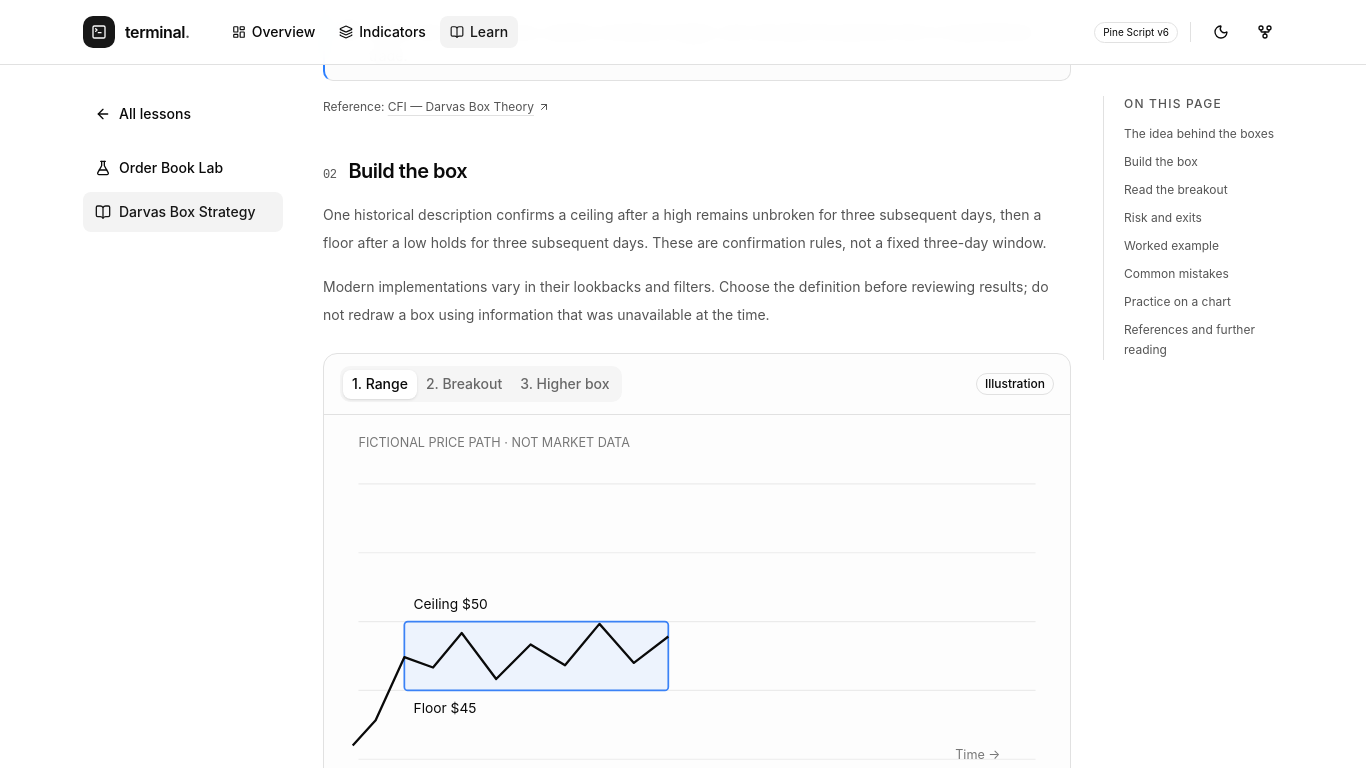
lets readers reveal diagram stages and the practice explanation
(page scrolled)
Expected: the text "Initial stop $44.80" is not shown
Click the tab "2. Breakout" at (464,384), box [417, 370, 511, 398]
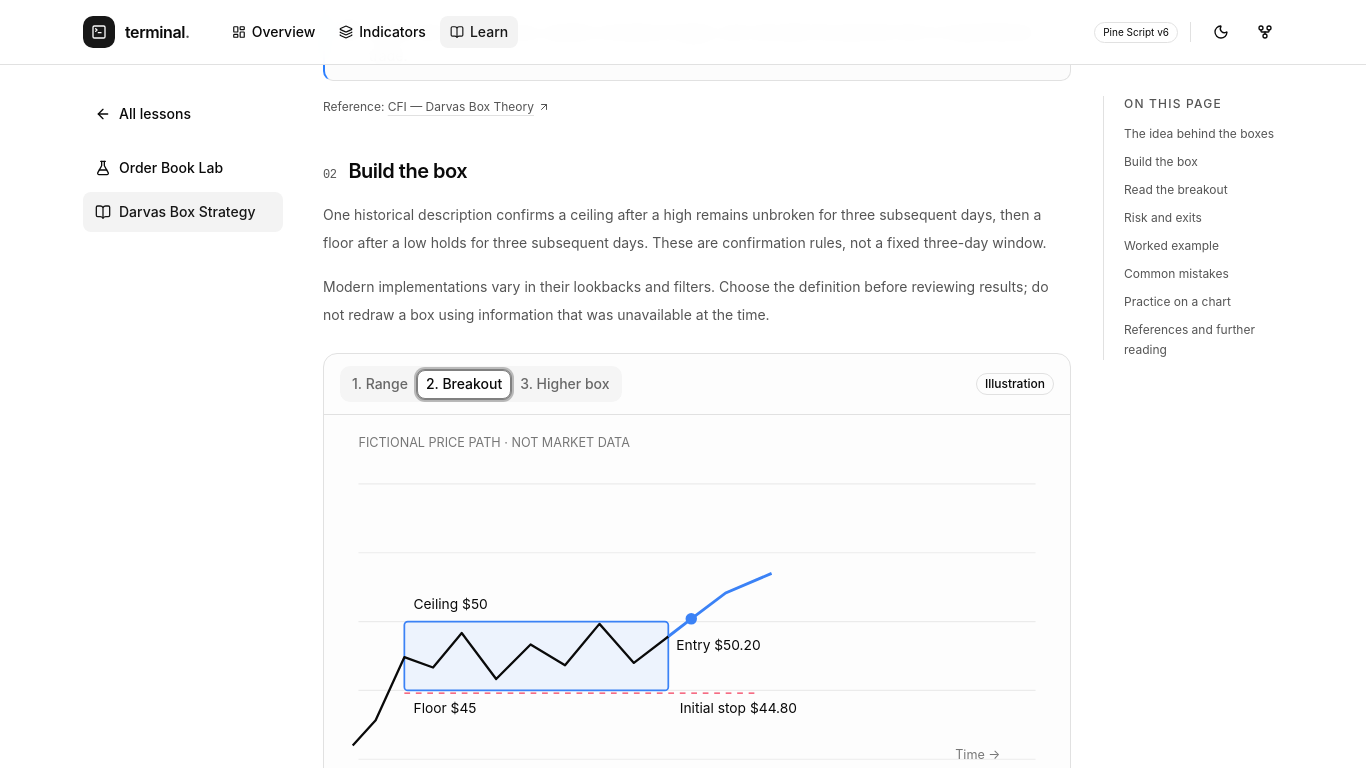
Expected: the text "Initial stop $44.80" is shown, [680, 700, 797, 716]
Click the tab "3. Higher box" at (565,384), box [511, 370, 618, 398]
(page scrolled)
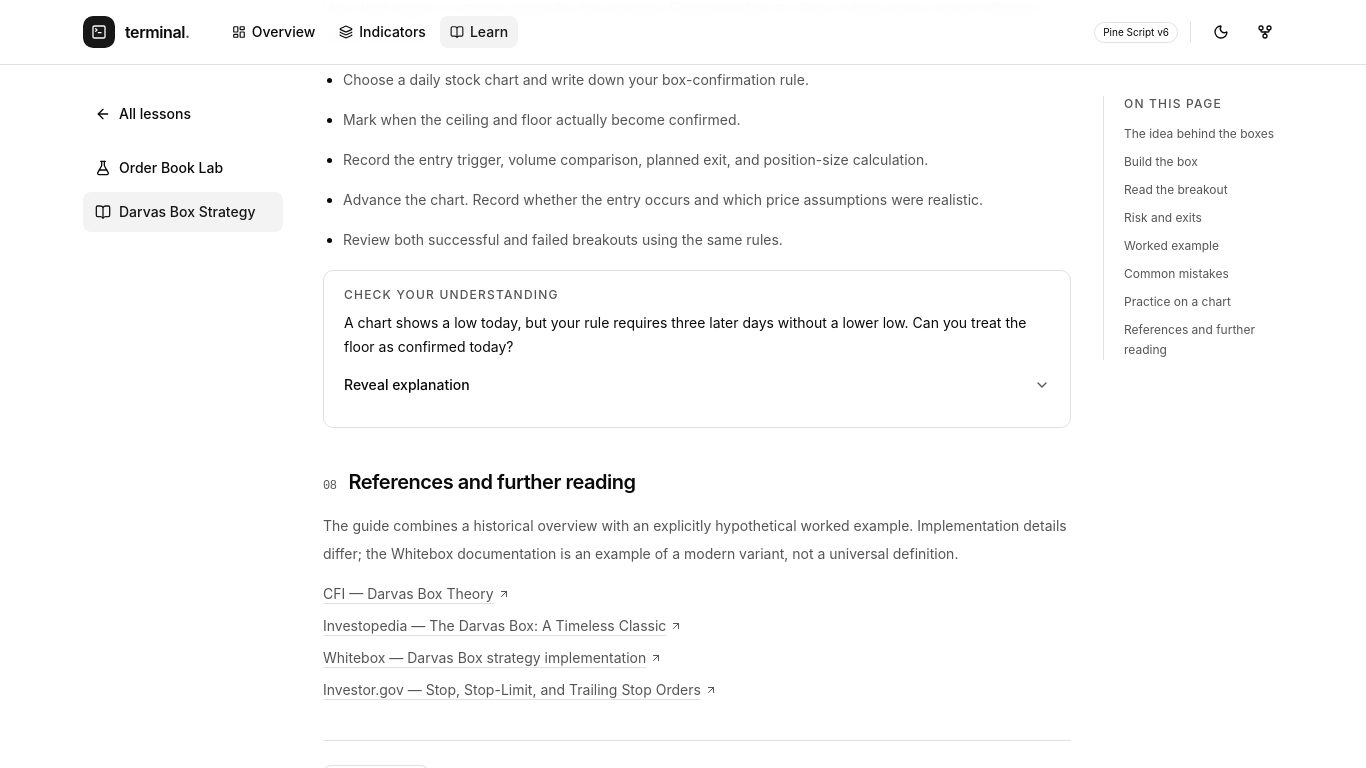
Click the button "Reveal explanation" at (407,384), box [344, 359, 1050, 411]
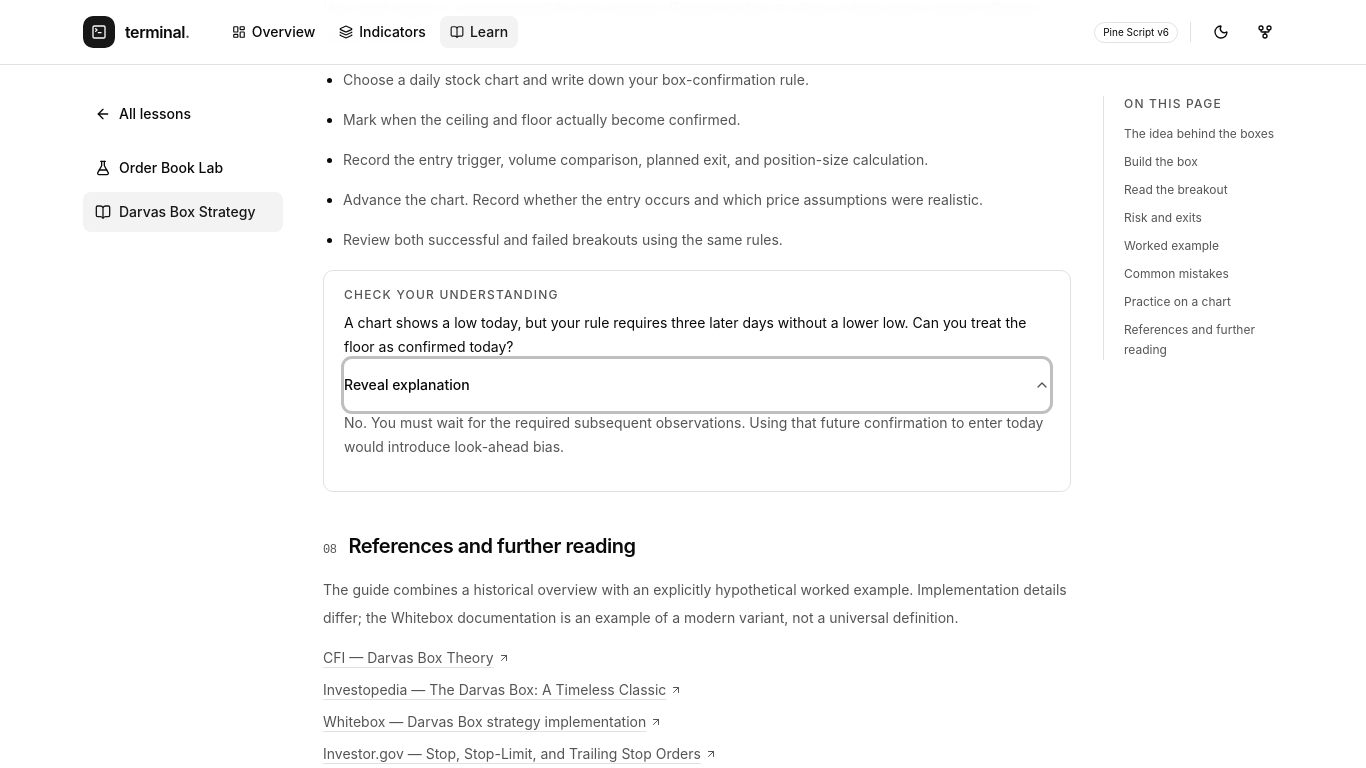
Expected: the text "You must wait for the required subsequent observations" is shown, [344, 414, 1044, 455]
